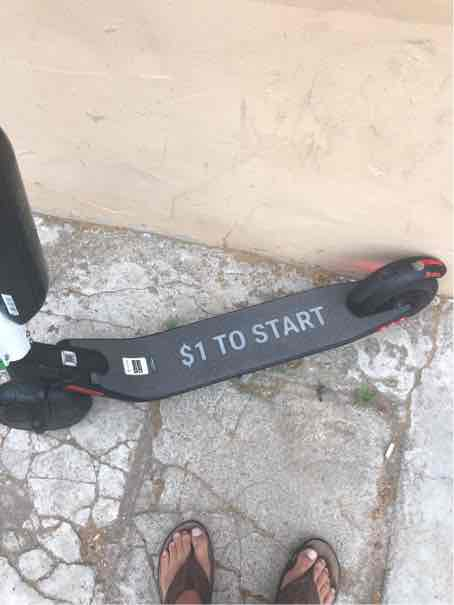scooter: (0, 17, 449, 447)
